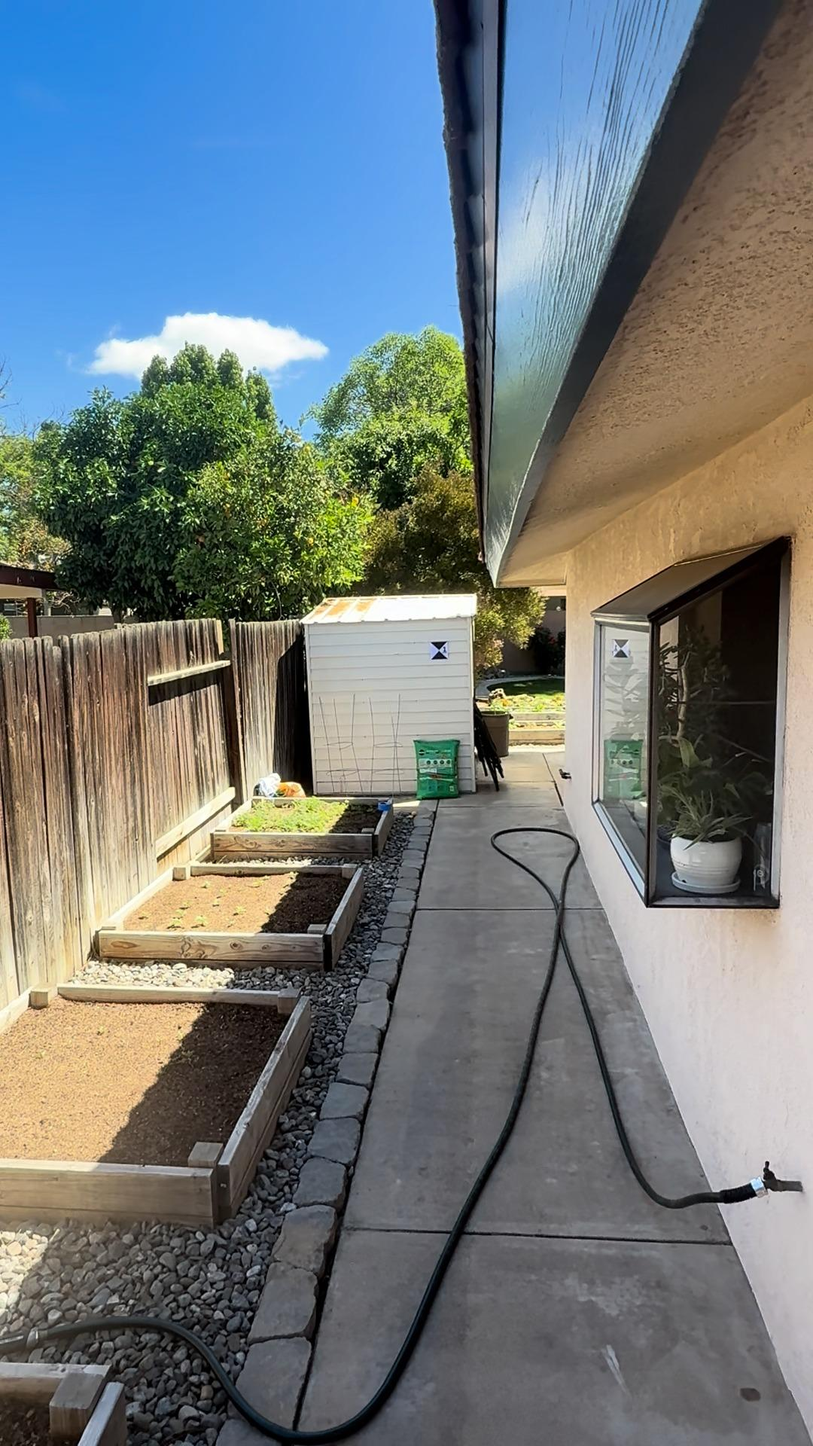target1: (429, 640, 450, 661)
